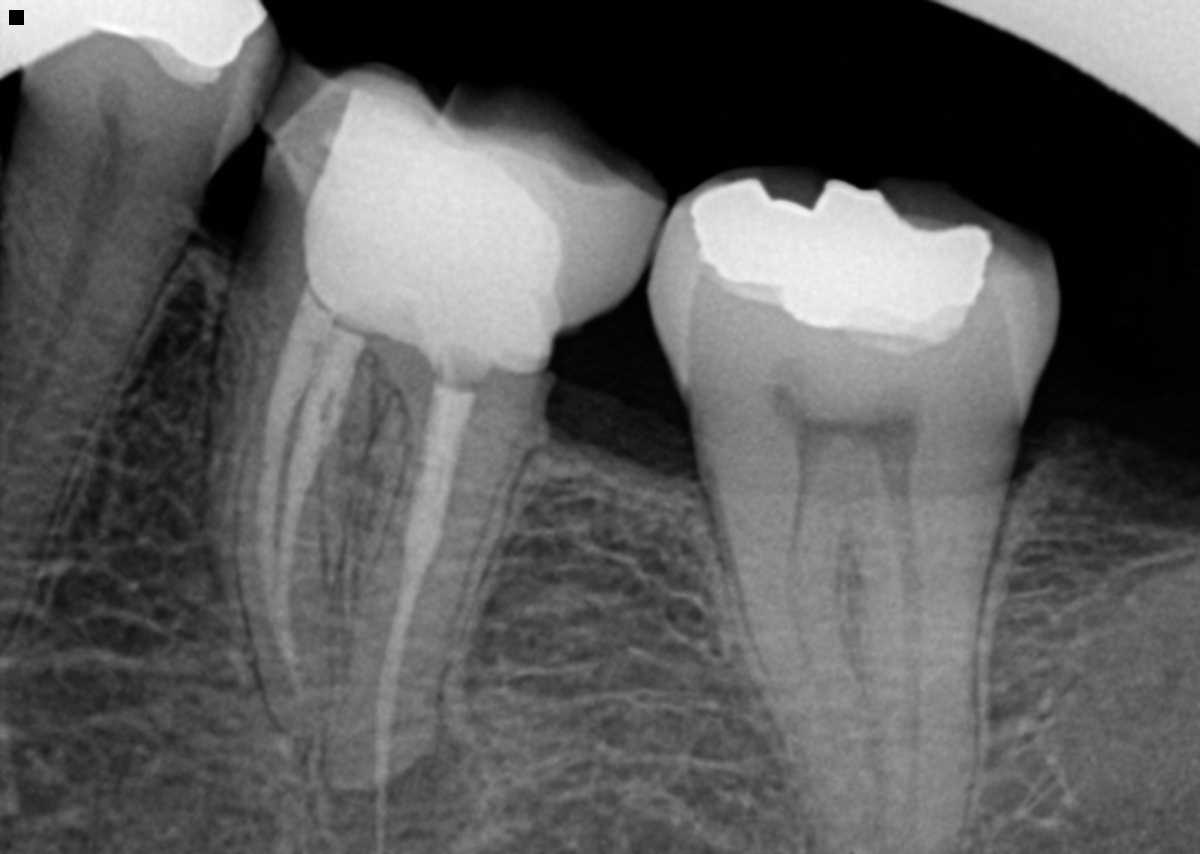Apical Lesion: (306, 727, 492, 854)
Distal Canal: (889, 476, 920, 825)
Distal Root: (327, 390, 543, 789), (860, 439, 1019, 853)
Main Canal: (0, 185, 117, 475)
Main Root: (0, 153, 190, 642)
Mesial Canal: (786, 450, 862, 805)
Mesial Root: (206, 292, 379, 735), (711, 490, 888, 848)
Root Canal Filling: (377, 380, 473, 854), (256, 290, 364, 704)
